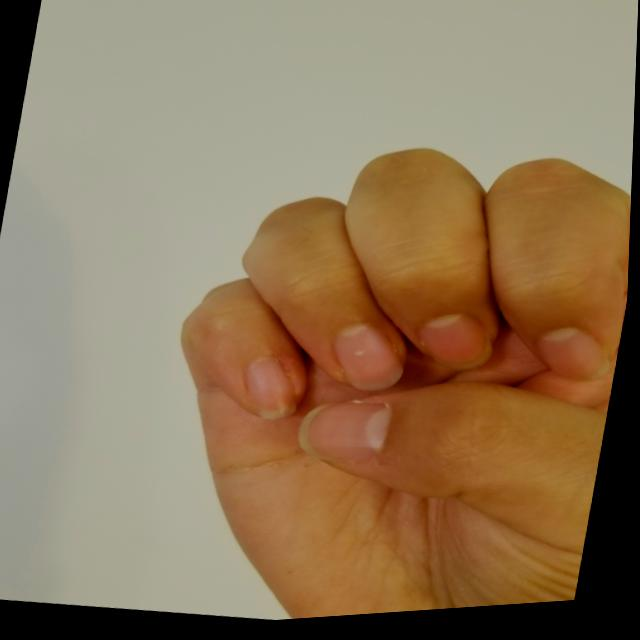E: (123, 103, 635, 632)
